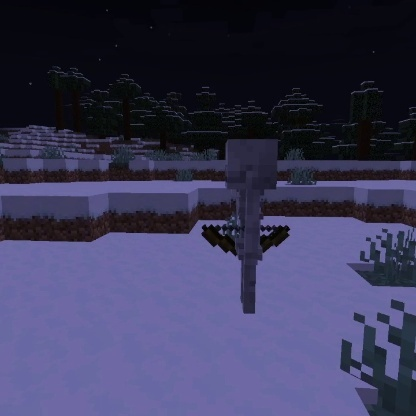skeleton: (199, 133, 295, 318)
